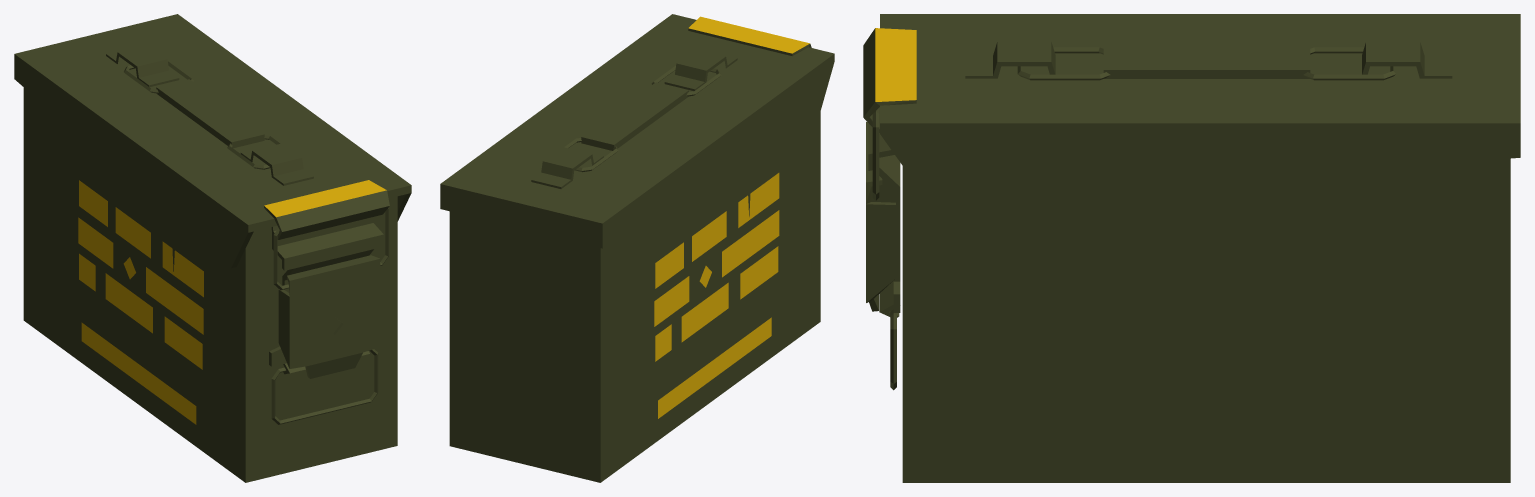
File: AmmoBox.glb
The picture shows the model from 3 angles, left to right: view 1: azimuth 30°, elevation 25°; view 2: azimuth 150°, elevation 25°; view 3: azimuth 270°, elevation 25°; orthographic projection. The views are drawn at different scales.
Visible parts, largest first — view 1: ammo_can_0, lid_1, closing_mechanism_2; view 2: ammo_can_0, lid_1; view 3: ammo_can_0, lid_1, closing_mechanism_2.
Boxes of the visible parts, x1,y1,x2,y2 form: ammo_can_0: [23, 87, 397, 482]; lid_1: [14, 14, 411, 268]; closing_mechanism_2: [273, 207, 388, 378]; ammo_can_0: [449, 112, 820, 482]; lid_1: [440, 14, 834, 248]; ammo_can_0: [868, 123, 1510, 482]; lid_1: [863, 14, 1520, 199]; closing_mechanism_2: [866, 108, 895, 311].
Size of the model in its own units: 0.1356 by 0.2202 by 0.3448.
